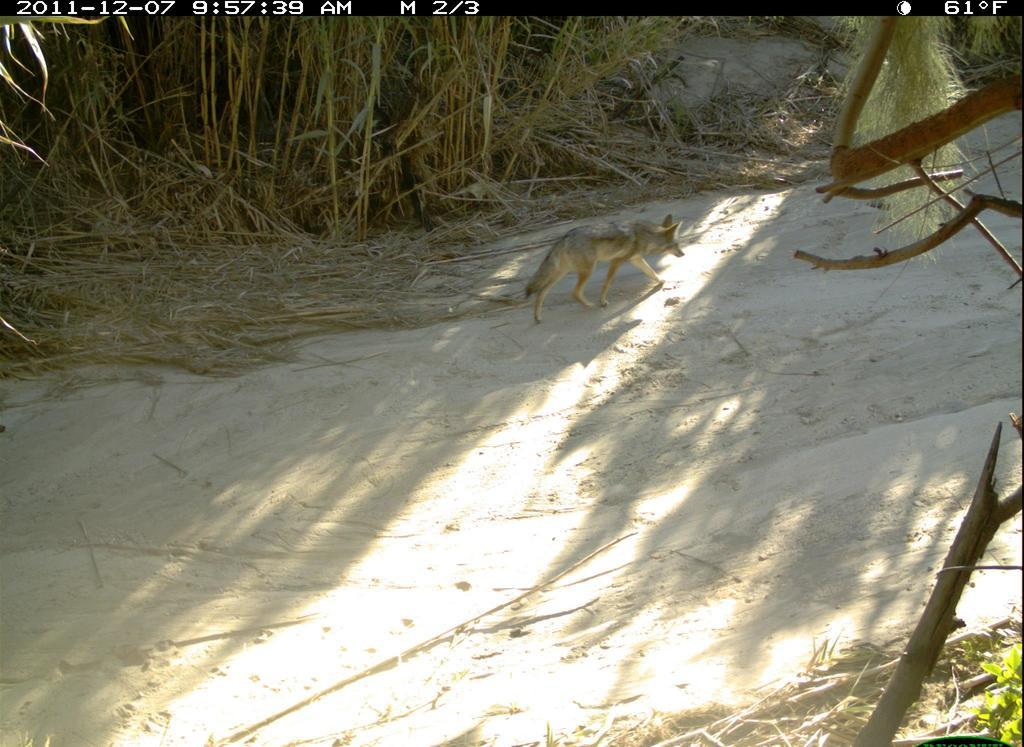coyote: (520, 194, 694, 332)
